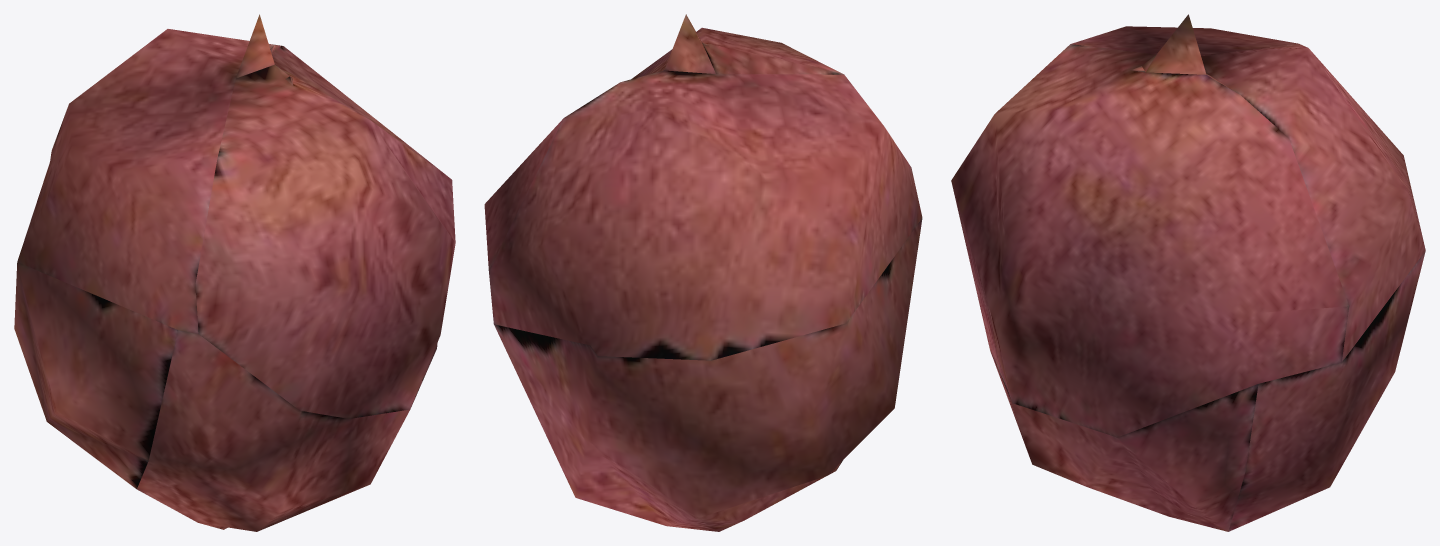
The model's file is food_lychee_01.glb.
3 views of the same model, side by side, from view 1: azimuth 30°, elevation 25°; view 2: azimuth 150°, elevation 25°; view 3: azimuth 270°, elevation 25° (orthographic). The views are drawn at different scales.
Parts seen in each view (by area): view 1: food_lychee_01; view 2: food_lychee_01; view 3: food_lychee_01.
Boxes of the visible parts, x1,y1,x2,y2 form: food_lychee_01: [14, 14, 455, 531]; food_lychee_01: [484, 14, 922, 531]; food_lychee_01: [951, 14, 1425, 531].
Bounding box in the file's own units: 0.0388 × 0.0499 × 0.0414.
1 material, 1 textured.
